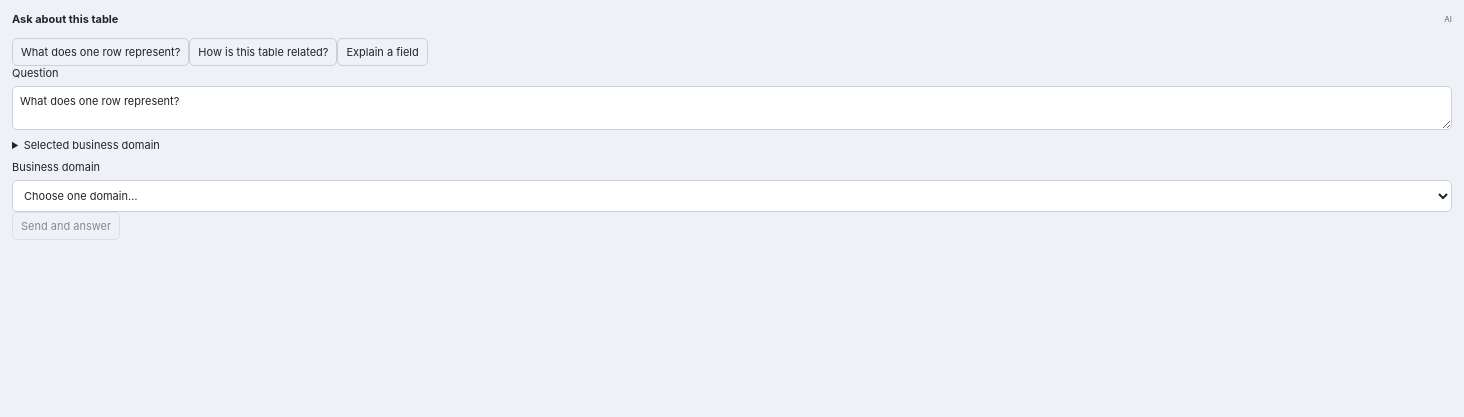
it: task-first table understanding › requires a selected domain and binds the focused field without expanding scope
Expected: the button "Send and answer" is disabled, [12,212,120,240]
Select "Commerce" in the dropdown labelled "Business domain" at (732, 196), box [12,180,1452,212]
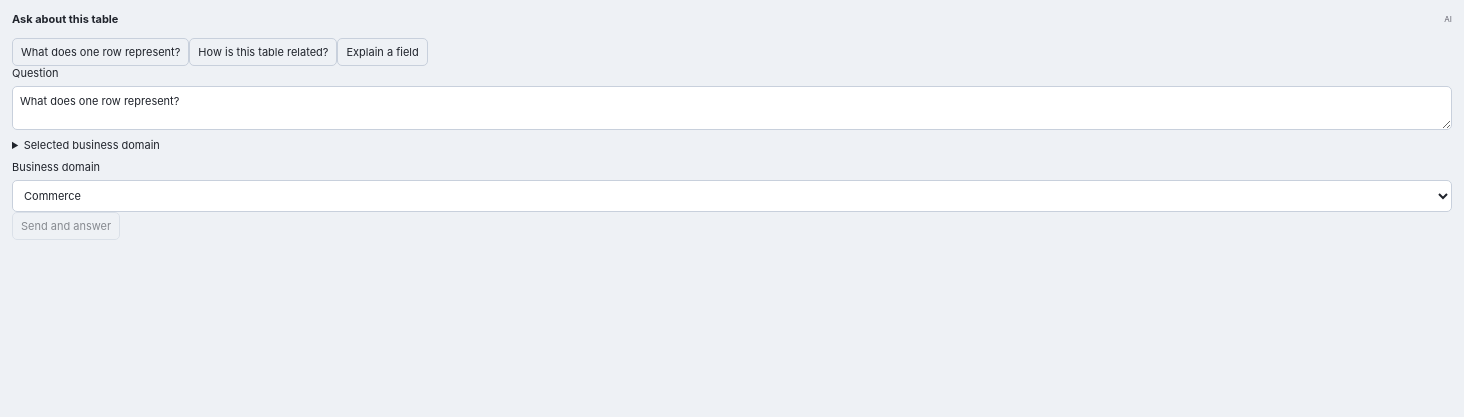
Click the heading "Selected business domain" at (92, 145), box [24,138,160,152]
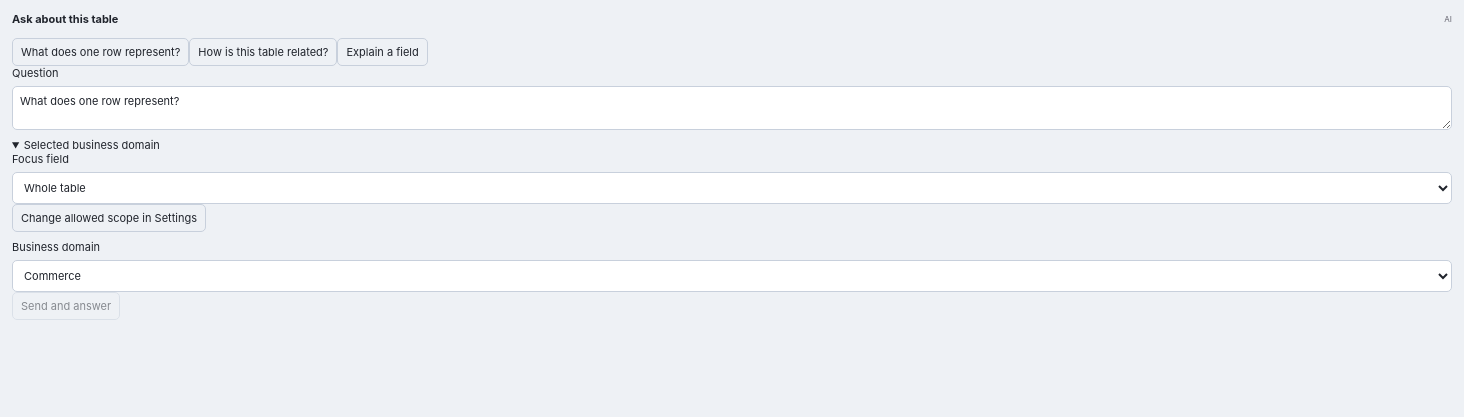
Select "customer_id" in the dropdown labelled "Focus field" at (732, 188), box [12,172,1452,204]
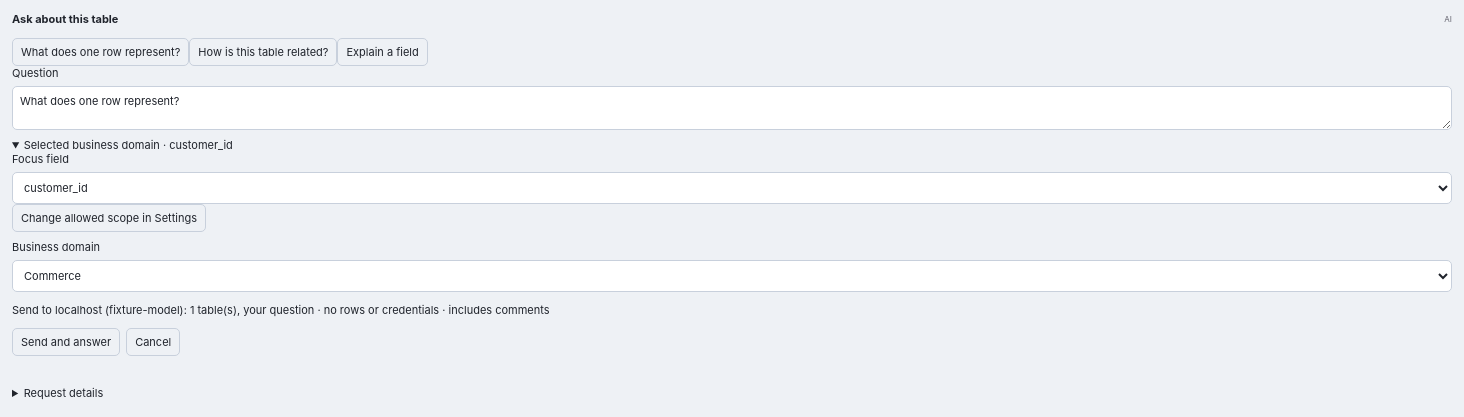
Result: the button "Send and answer" is enabled at [12,328,120,356]
